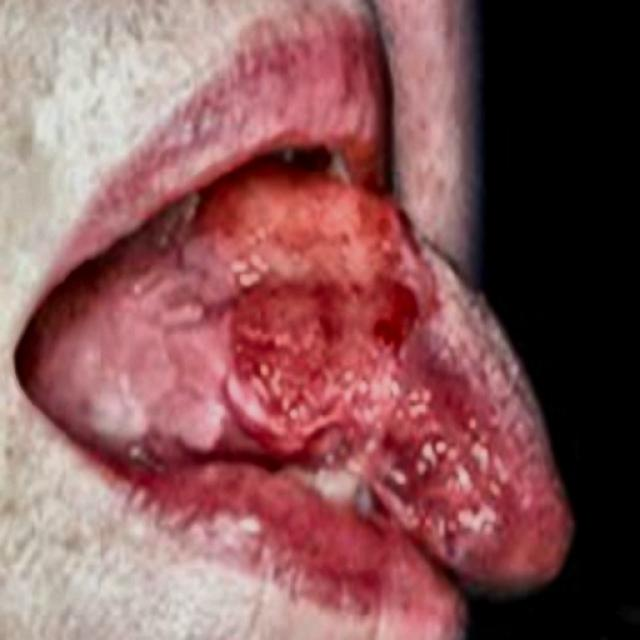cancer-detection: (138, 169, 574, 591)
processing_area: (2, 29, 568, 606)
